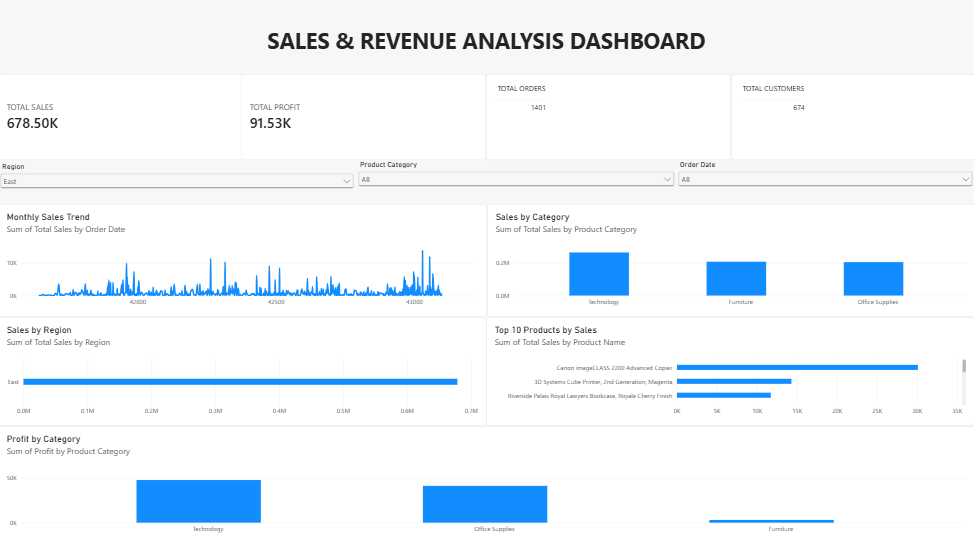

Layout of this report page (visuals, bound fields, positions):
{"tool":"powerbi","page":{"name":"Page 1","canvas":[1920,1080],"ordinal":0},"visuals":[{"type":"cardVisual","fields":{"Data":["Sum(retail_sales_cleaned.Sales Amount)"]},"box":[0,156.2,481.3,168.8],"z":0},{"type":"cardVisual","fields":{"Data":["Sum(retail_sales_cleaned.Profit)"]},"box":[476.2,156.2,481.3,168.8],"z":1000},{"type":"tableEx","fields":{"Values":["retail_sales_cleaned.Order ID"]},"box":[957.5,156.2,481.3,168.8],"z":2000},{"type":"tableEx","fields":{"Values":["retail_sales_cleaned.Customer ID"]},"box":[1438.7,156.2,481.3,168.8],"z":3000},{"type":"lineChart","title":"Monthly Sales Trend","fields":{"Category":["retail_sales_cleaned.Order Date"],"Y":["Sum(retail_sales_cleaned.Total Sales)"]},"box":[0,413.2,960,221.7],"z":4000},{"type":"clusteredColumnChart","title":"Sales by Category","fields":{"Category":["retail_sales_cleaned.Product Category"],"Y":["Sum(retail_sales_cleaned.Total Sales)"]},"box":[960,413.2,960,221.7],"z":5000},{"type":"barChart","title":"Sales by Region","fields":{"Category":["retail_sales_cleaned.Region"],"Y":["Sum(retail_sales_cleaned.Total Sales)"]},"box":[0,635,960,214.2],"z":6000},{"type":"barChart","title":"Top 10 Products by Sales","fields":{"Category":["retail_sales_cleaned.Product Name"],"Y":["Sum(retail_sales_cleaned.Total Sales)"]},"box":[957.5,635,960,214.2],"z":7000},{"type":"columnChart","title":"Profit by Category","fields":{"Category":["retail_sales_cleaned.Product Category"],"Y":["Sum(retail_sales_cleaned.Profit)"]},"box":[0,849.1,1920,231.8],"z":8000},{"type":"slicer","fields":{"Values":["retail_sales_cleaned.Region"]},"box":[0,330.1,703,83.1],"z":8001},{"type":"slicer","fields":{"Values":["retail_sales_cleaned.Product Category"]},"box":[703,325,629.9,80.6],"z":8002},{"type":"slicer","fields":{"Values":["retail_sales_cleaned.Order Date"]},"box":[1330.4,325,587.1,80.6],"z":8003},{"type":"textbox","box":[0,63,1917.5,93.2],"z":8004}]}

Visuals, with their boxes in screenshot pixels (x1, y1, x2, y2), scaled from the page's 1920x1080 canvas onto the 974x541 screenshot:
cardVisual - Sum(retail_sales_cleaned.Sales Amount): box=[0, 78, 244, 163]
cardVisual - Sum(retail_sales_cleaned.Profit): box=[242, 78, 486, 163]
tableEx - retail_sales_cleaned.Order ID: box=[486, 78, 730, 163]
tableEx - retail_sales_cleaned.Customer ID: box=[730, 78, 973, 163]
"Monthly Sales Trend" lineChart: box=[0, 207, 487, 318]
"Sales by Category" clusteredColumnChart: box=[487, 207, 973, 318]
"Sales by Region" barChart: box=[0, 318, 487, 425]
"Top 10 Products by Sales" barChart: box=[486, 318, 973, 425]
"Profit by Category" columnChart: box=[0, 425, 973, 540]
slicer - retail_sales_cleaned.Region: box=[0, 165, 357, 207]
slicer - retail_sales_cleaned.Product Category: box=[357, 163, 676, 203]
slicer - retail_sales_cleaned.Order Date: box=[675, 163, 973, 203]
textbox: box=[0, 32, 973, 78]
